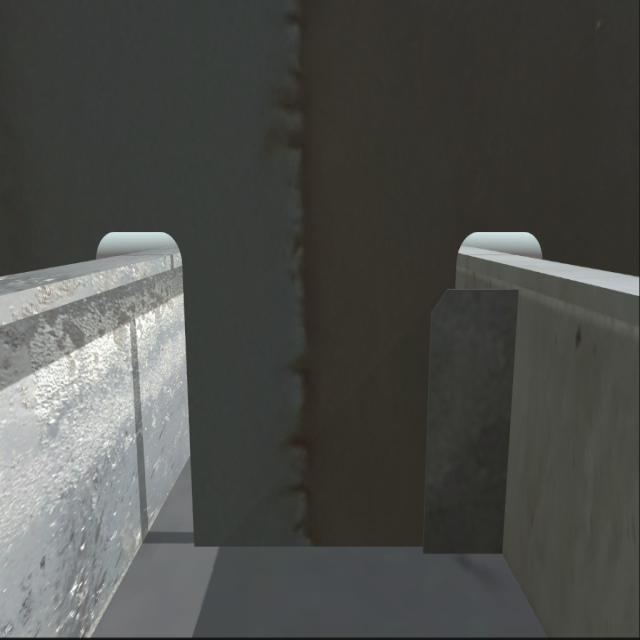fillet_yong_jeop_jang: (173, 541, 499, 562)
longi_yong_jeop_jang: (492, 286, 522, 556)
plate_CP03: (418, 287, 516, 555)
